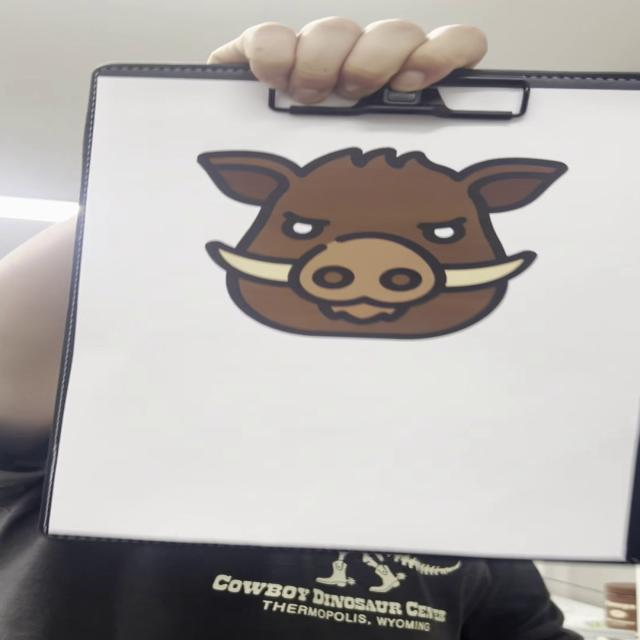animal: (196, 146, 567, 343)
